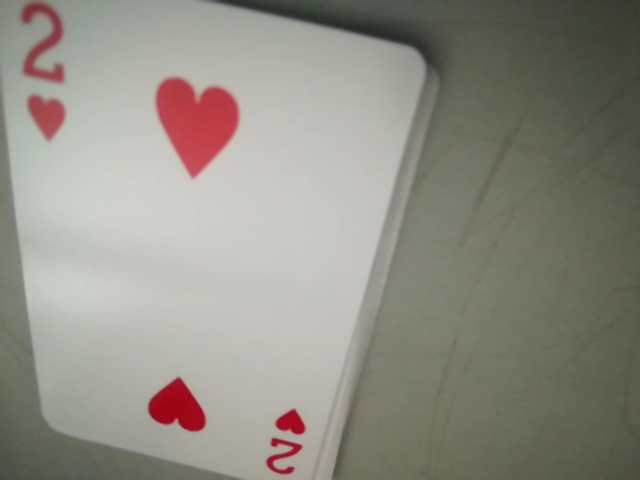hx 2: (260, 407, 315, 480)
